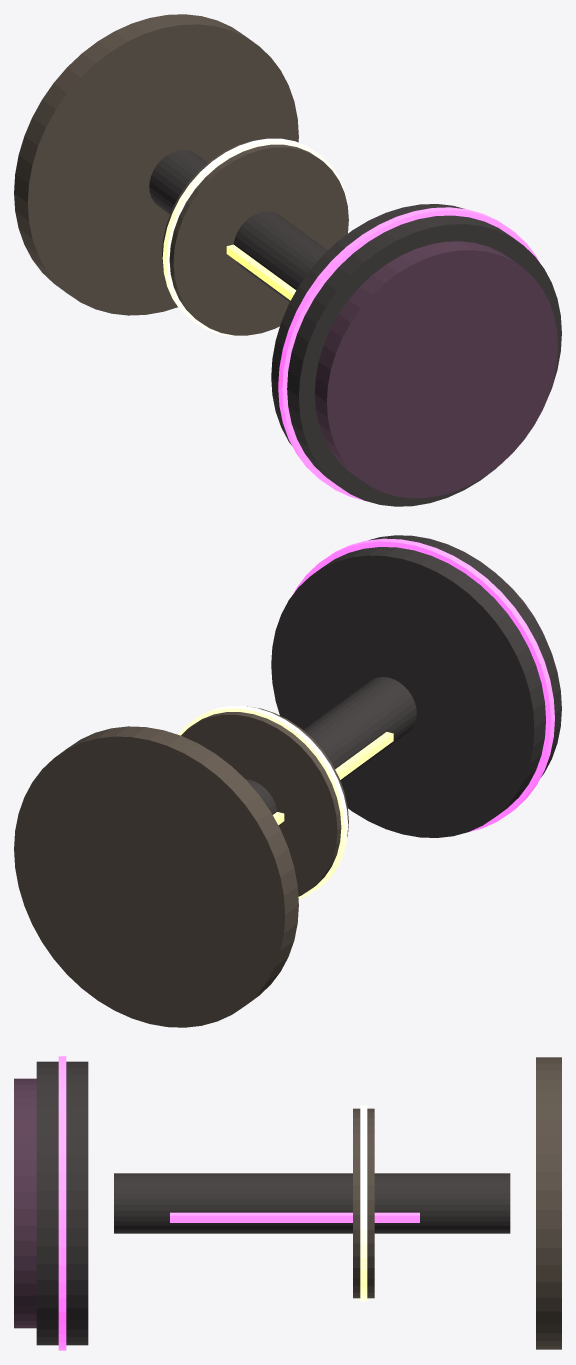
File: pedestal_barstool_pink_gold.glb
3 views of the same model, one above another, from view 1: azimuth 30°, elevation 25°; view 2: azimuth 150°, elevation 25°; view 3: azimuth 270°, elevation 25° (orthographic). The views are drawn at different scales.
Visible parts, largest first — view 1: base_disc, dark_non_glowing_cushion, footrest_collar_metal, seat_hard_shell, center_pole, seat_outer_trim_band, footrest_trim_band, attached_pole_trim_back; view 2: base_disc, seat_hard_shell, footrest_collar_metal, center_pole, seat_outer_trim_band, footrest_trim_band, attached_pole_trim_back; view 3: center_pole, seat_hard_shell, base_disc, dark_non_glowing_cushion, footrest_collar_metal, seat_outer_trim_band, attached_pole_trim_front, footrest_trim_band.
Part boxes in pixels (x1,y1,x2,y2): base_disc: (14, 14, 298, 315); dark_non_glowing_cushion: (314, 241, 557, 498); footrest_collar_metal: (162, 139, 348, 335); seat_hard_shell: (271, 204, 561, 506); center_pole: (149, 150, 327, 302); seat_outer_trim_band: (278, 207, 539, 500); footrest_trim_band: (162, 138, 346, 335); attached_pole_trim_back: (226, 244, 296, 300); base_disc: (14, 726, 298, 1027); seat_hard_shell: (271, 535, 561, 837); footrest_collar_metal: (181, 706, 348, 896); center_pole: (245, 677, 416, 814); seat_outer_trim_band: (293, 538, 554, 832); footrest_trim_band: (178, 706, 348, 898); attached_pole_trim_back: (273, 732, 393, 824); center_pole: (114, 1173, 510, 1233); seat_hard_shell: (36, 1061, 88, 1345); base_disc: (536, 1057, 561, 1349); dark_non_glowing_cushion: (14, 1078, 36, 1328); footrest_collar_metal: (353, 1108, 374, 1298); seat_outer_trim_band: (58, 1056, 66, 1350); attached_pole_trim_front: (170, 1212, 419, 1222); footrest_trim_band: (360, 1105, 367, 1301).
Bounding box in the file's own units: 0.684 × 0.684 × 1.27.
